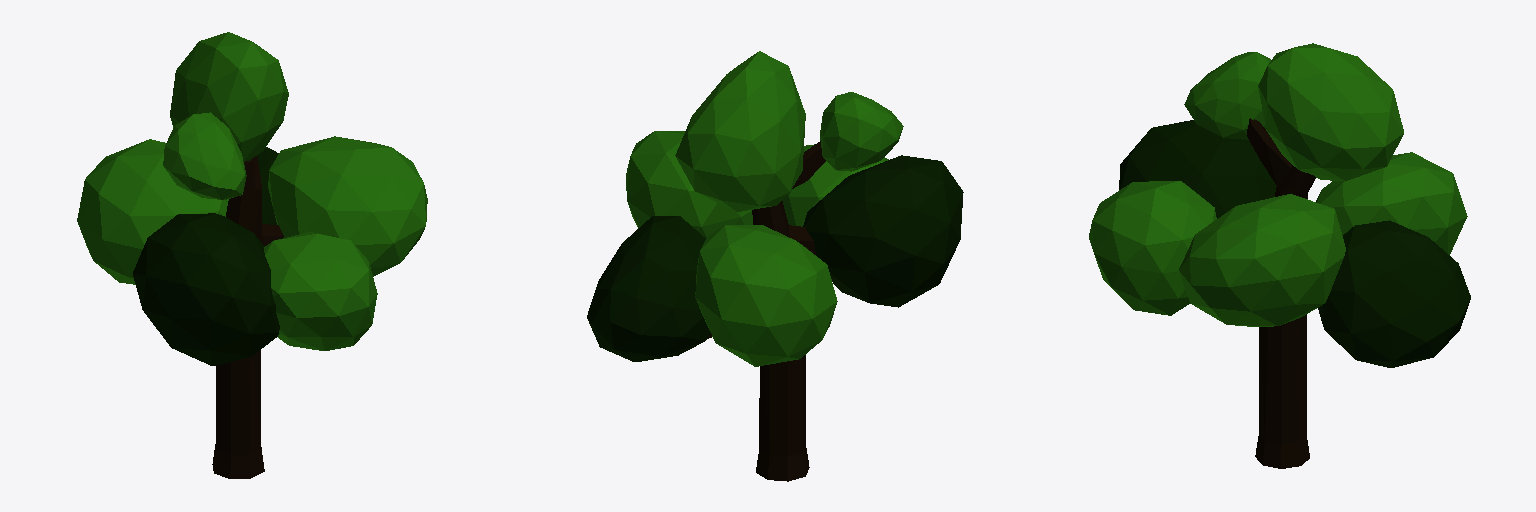
File: tree.obj
3 renders of one model, left to right at view 1: azimuth 30°, elevation 25°; view 2: azimuth 150°, elevation 25°; view 3: azimuth 270°, elevation 25°, orthographic.
Visible parts, largest first — view 1: Cylinder.003_Cylinder.000; view 2: Cylinder.003_Cylinder.000; view 3: Cylinder.003_Cylinder.000.
Boxes of the visible parts, x1=… form: Cylinder.003_Cylinder.000: x1=77, y1=32, x2=427, y2=478; Cylinder.003_Cylinder.000: x1=587, y1=51, x2=963, y2=481; Cylinder.003_Cylinder.000: x1=1089, y1=43, x2=1470, y2=468.
Size of the model in its own units: 11.44 by 15.65 by 12.97.